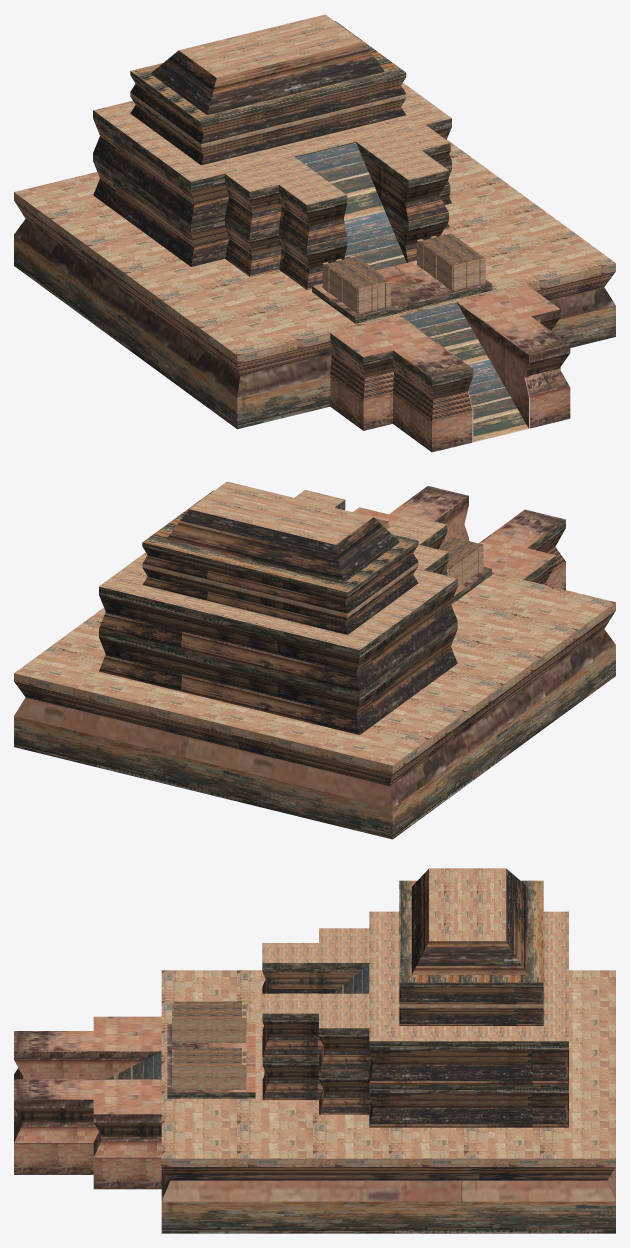
The model's file is candi-muaro-jambi.glb.
3 views of the same model, one above another, from view 1: azimuth 30°, elevation 25°; view 2: azimuth 150°, elevation 25°; view 3: azimuth 270°, elevation 25° (orthographic).
Parts seen in each view (by area): view 1: Material3 (×7), Material2 (×6); view 2: Material3 (×6), Material2 (×4); view 3: Material3 (×7), Material2 (×5).
Part boxes in pixels (box(x1,y1,x2,y2)): Material3 (×7): box(14, 14, 615, 452); Material2 (×6): box(14, 21, 615, 442); Material3 (×6): box(14, 481, 615, 839); Material2 (×4): box(14, 486, 615, 808); Material3 (×7): box(14, 868, 615, 1233); Material2 (×5): box(14, 869, 615, 1201).
Bounding box in the file's own units: 4779 × 2749 × 6462.
Materials: 20 (20 with a texture image).
